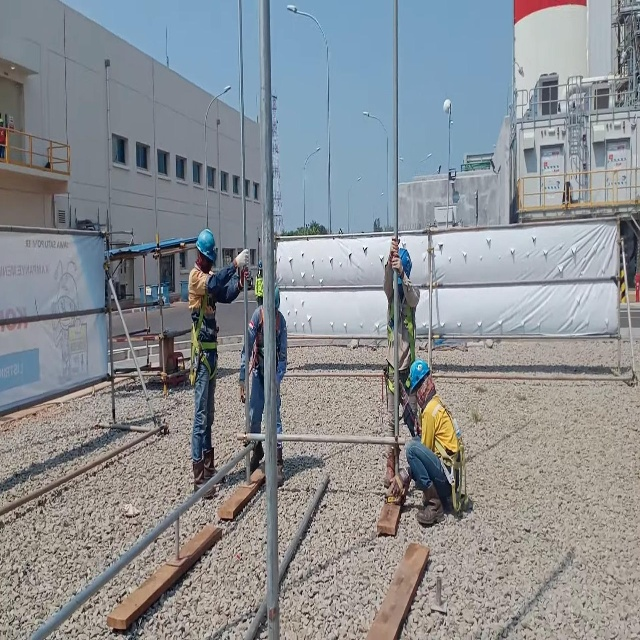Arnes_seguridad: (433, 391, 470, 515), (383, 296, 416, 403), (187, 291, 220, 389), (250, 308, 283, 385)
